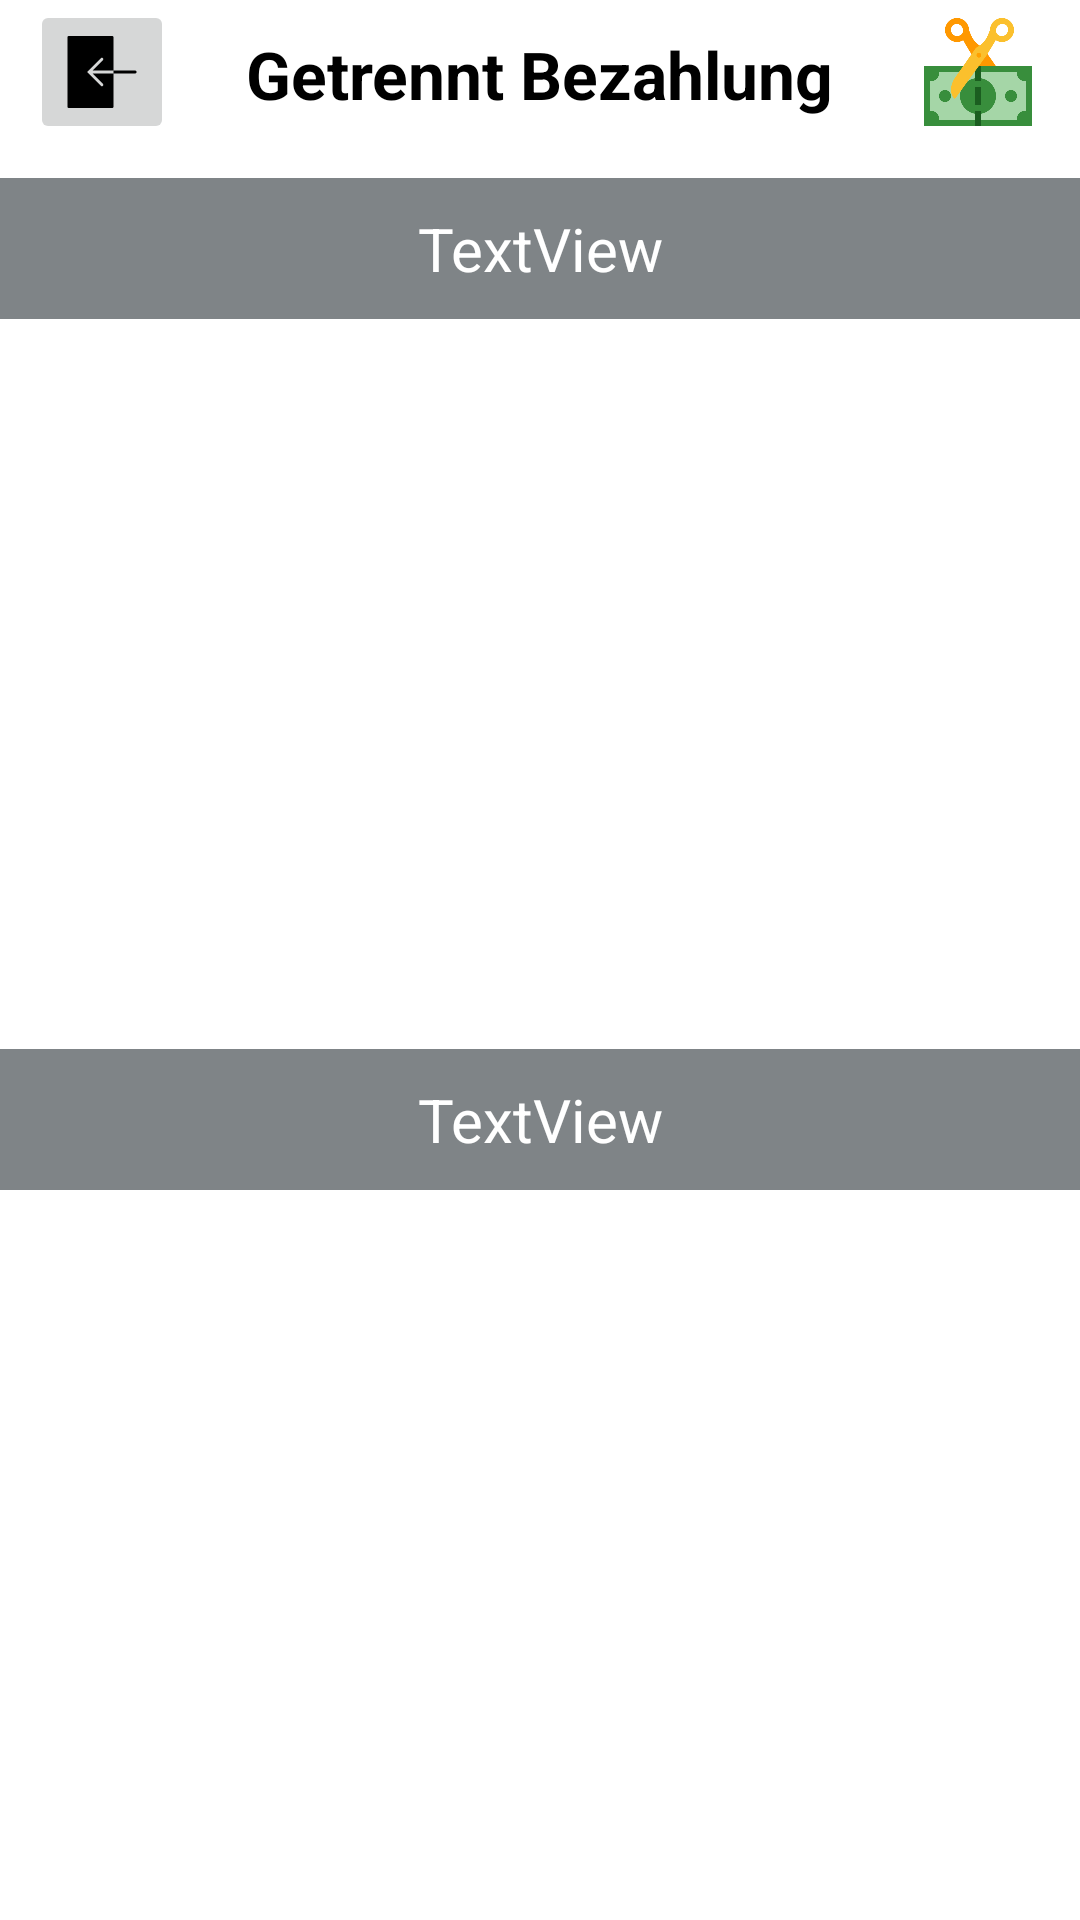

Icon bounding boxes for this 1080*1920 phone screenshot, format (x1, y1, x2, y2):
resource import: (42, 18, 162, 126)
